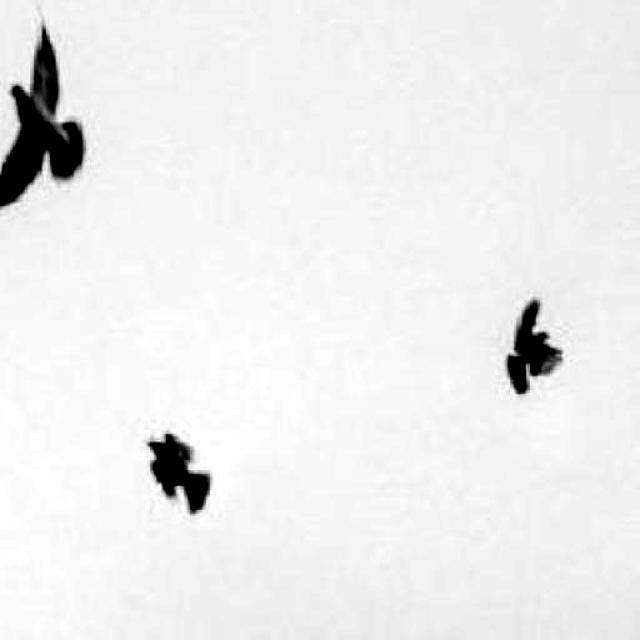airplane: (0, 8, 85, 211), (144, 432, 212, 516), (508, 299, 564, 395)
